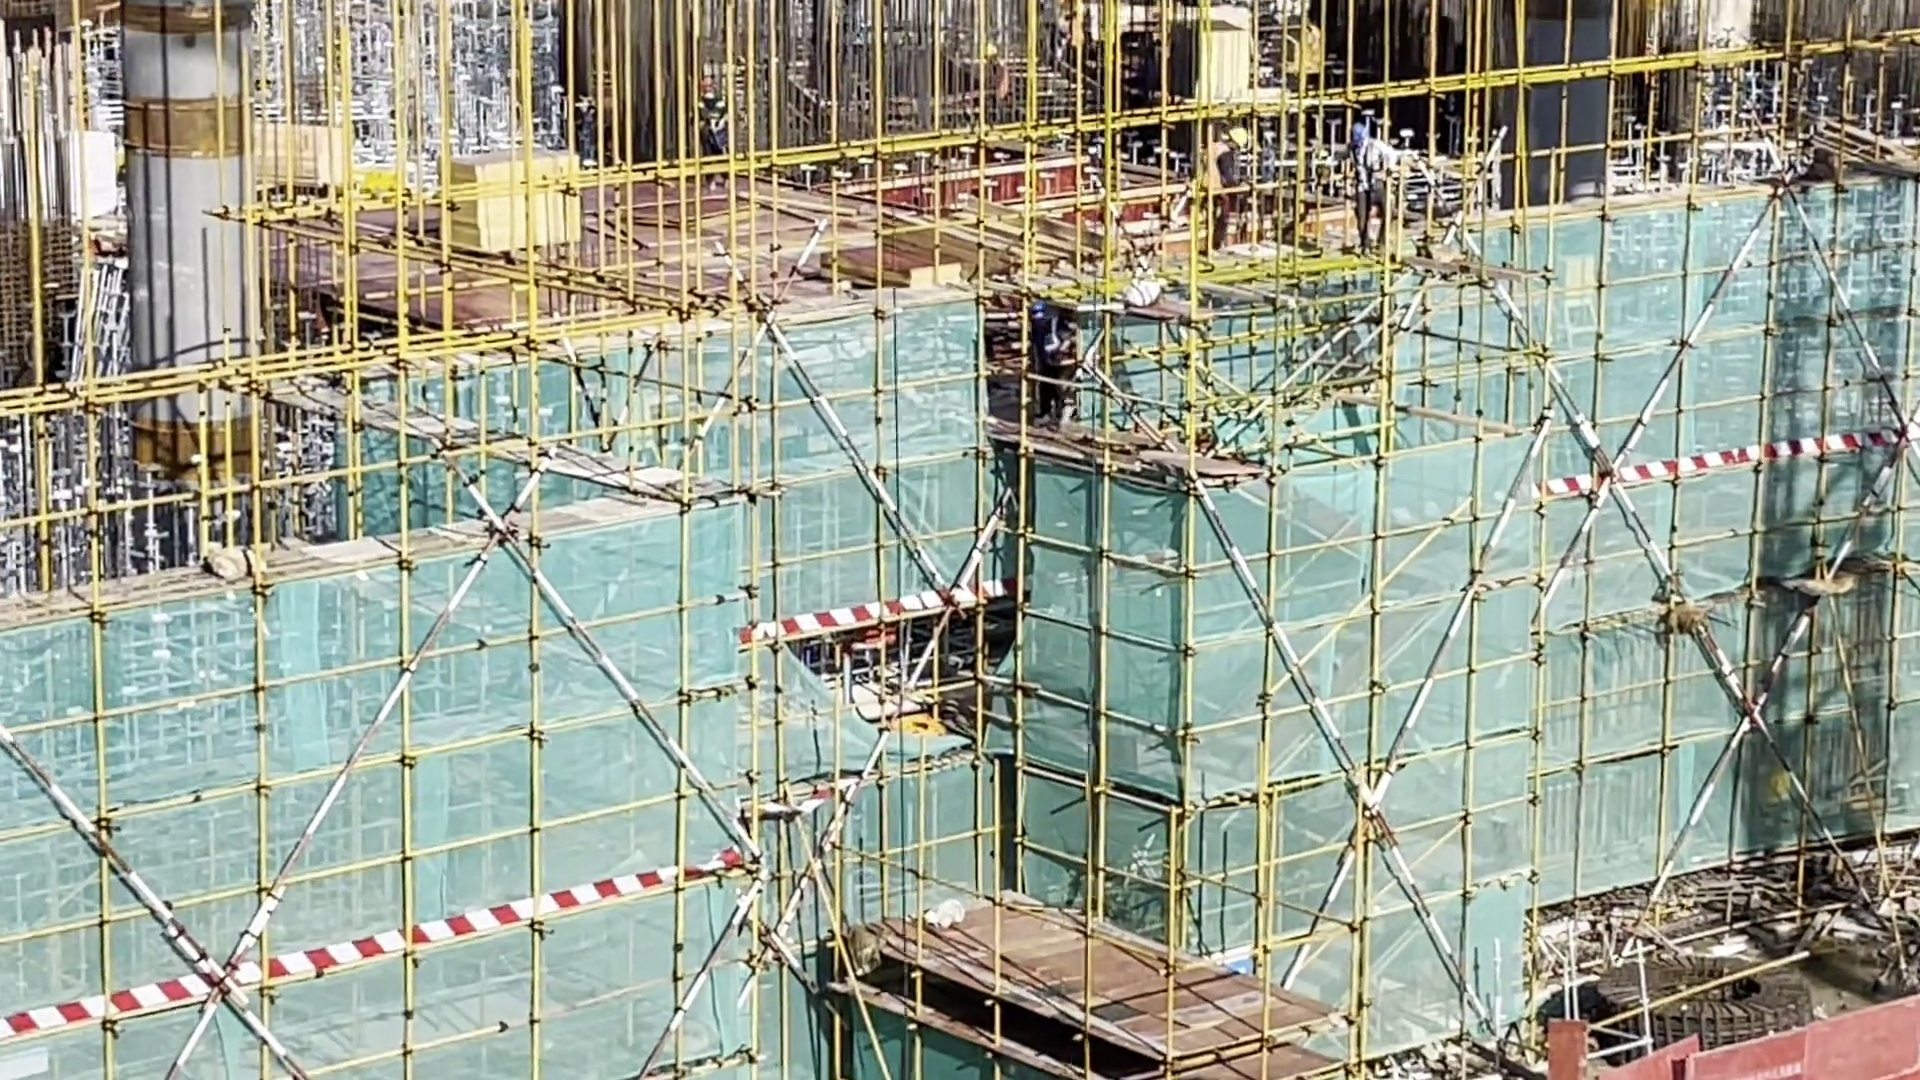helmet: (704, 71, 740, 104), (1220, 129, 1250, 149), (1347, 121, 1368, 147)
person: (1198, 116, 1245, 251), (1342, 127, 1389, 252), (689, 76, 735, 181)
vest: (1349, 142, 1384, 193), (1202, 140, 1231, 190), (705, 104, 726, 139)
